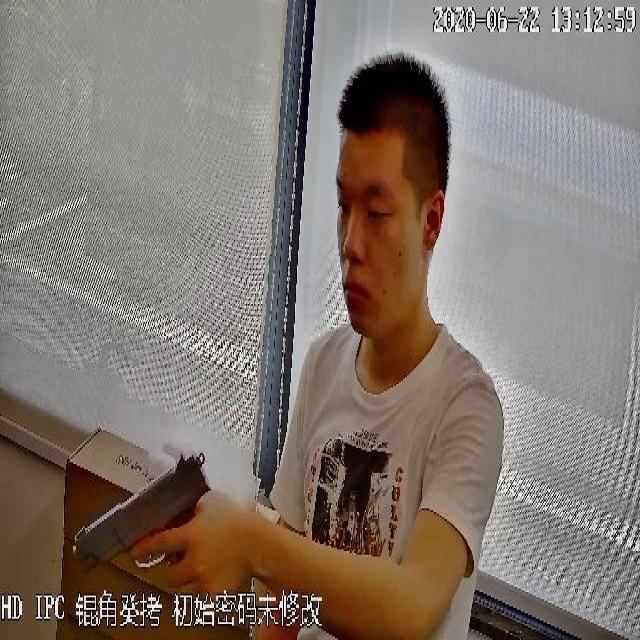pistol: (72, 439, 218, 591)
